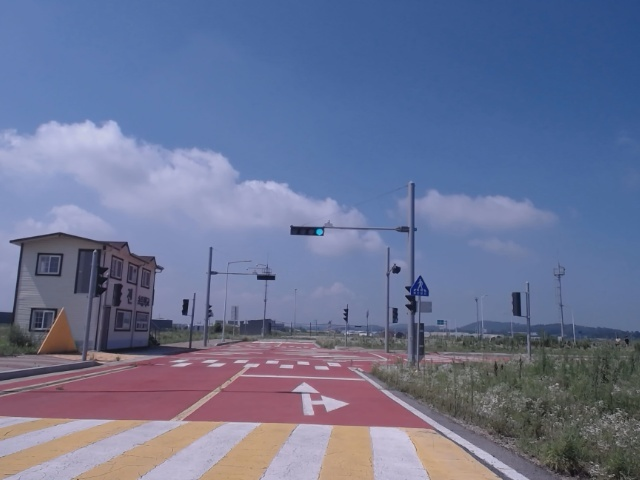straight_green_4: (291, 226, 324, 236)
